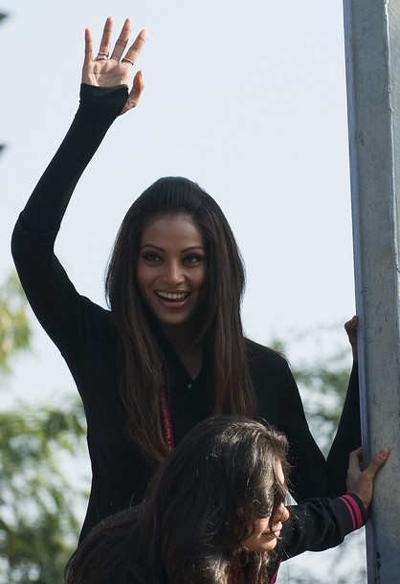person: (11, 18, 362, 584)
